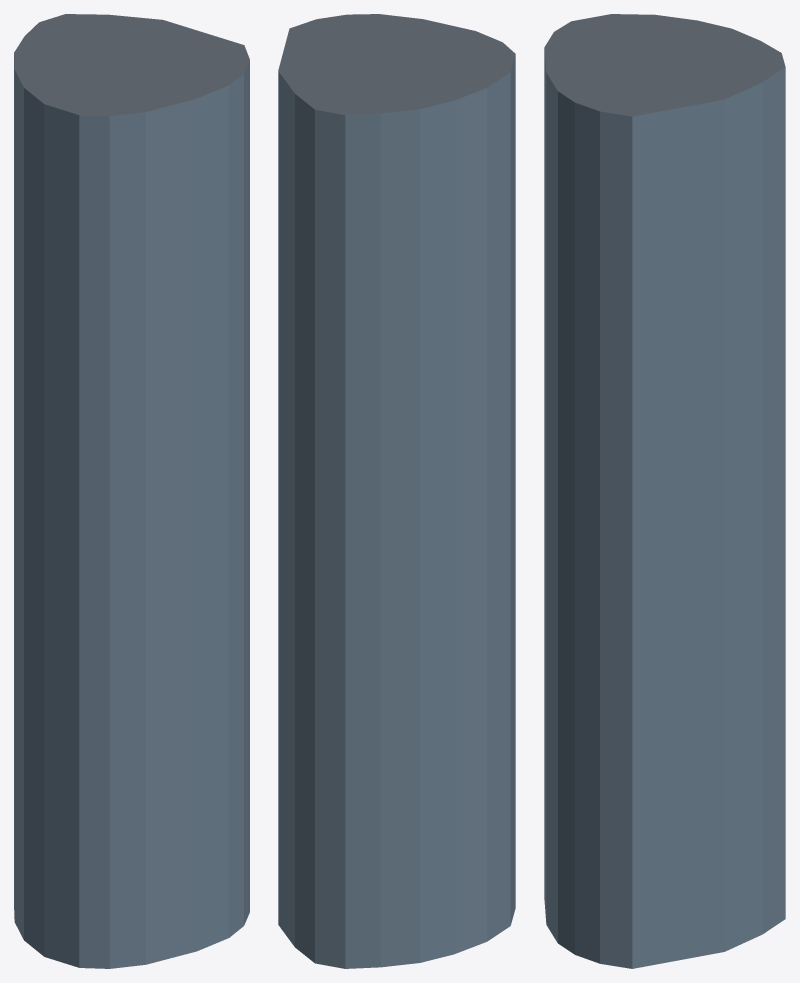
3 views of the same model, side by side, from view 1: azimuth 30°, elevation 25°; view 2: azimuth 150°, elevation 25°; view 3: azimuth 270°, elevation 25° (orthographic).
Parts seen in each view (by area): view 1: HP-w1526311117; view 2: HP-w1526311117; view 3: HP-w1526311117.
Boxes of the visible parts, box(x1,y1,x2,y2) form: HP-w1526311117: box(14, 14, 249, 968); HP-w1526311117: box(278, 14, 515, 968); HP-w1526311117: box(544, 14, 785, 968).
Bounding box in the file's own units: 64.58 × 250 × 64.1.
